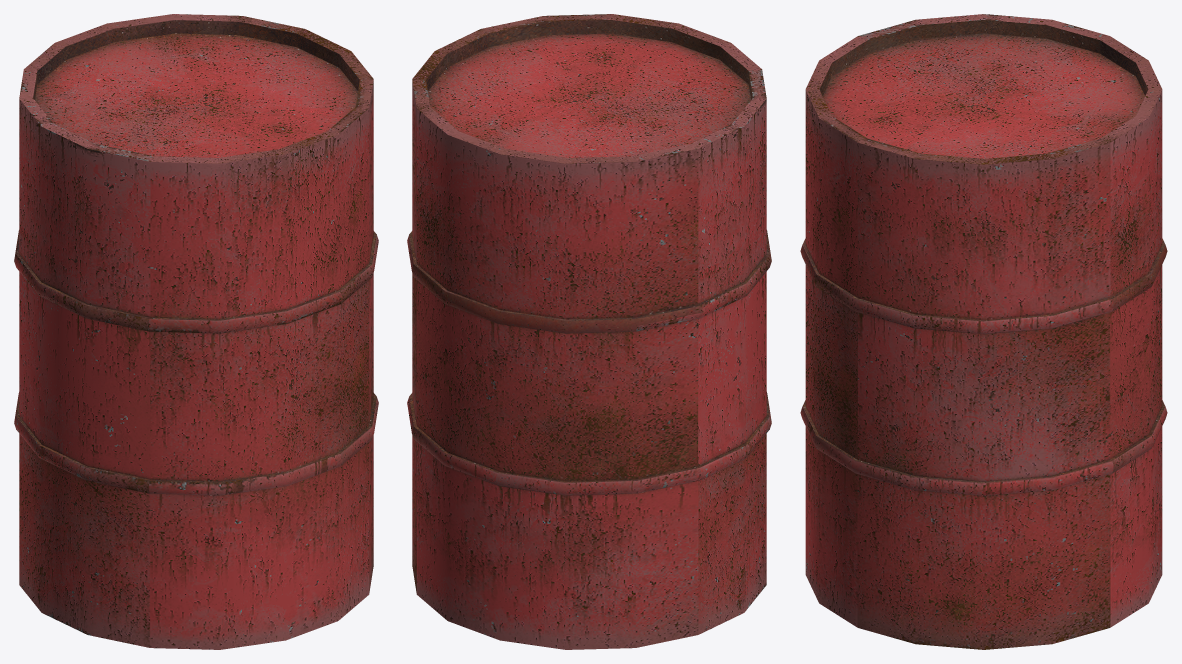
The model's file is barrle.fbx.
3 renders of one model, left to right at view 1: azimuth 30°, elevation 25°; view 2: azimuth 150°, elevation 25°; view 3: azimuth 270°, elevation 25°, orthographic.
Visible parts, largest first — view 1: barrel; view 2: barrel; view 3: barrel.
Boxes of the visible parts, x1,y1,x2,y2 form: barrel: (14, 14, 378, 649); barrel: (407, 14, 771, 649); barrel: (800, 14, 1167, 649).
Bounding box in the file's own units: 103 × 150 × 103.
Materials: 1 (1 with a texture image).
